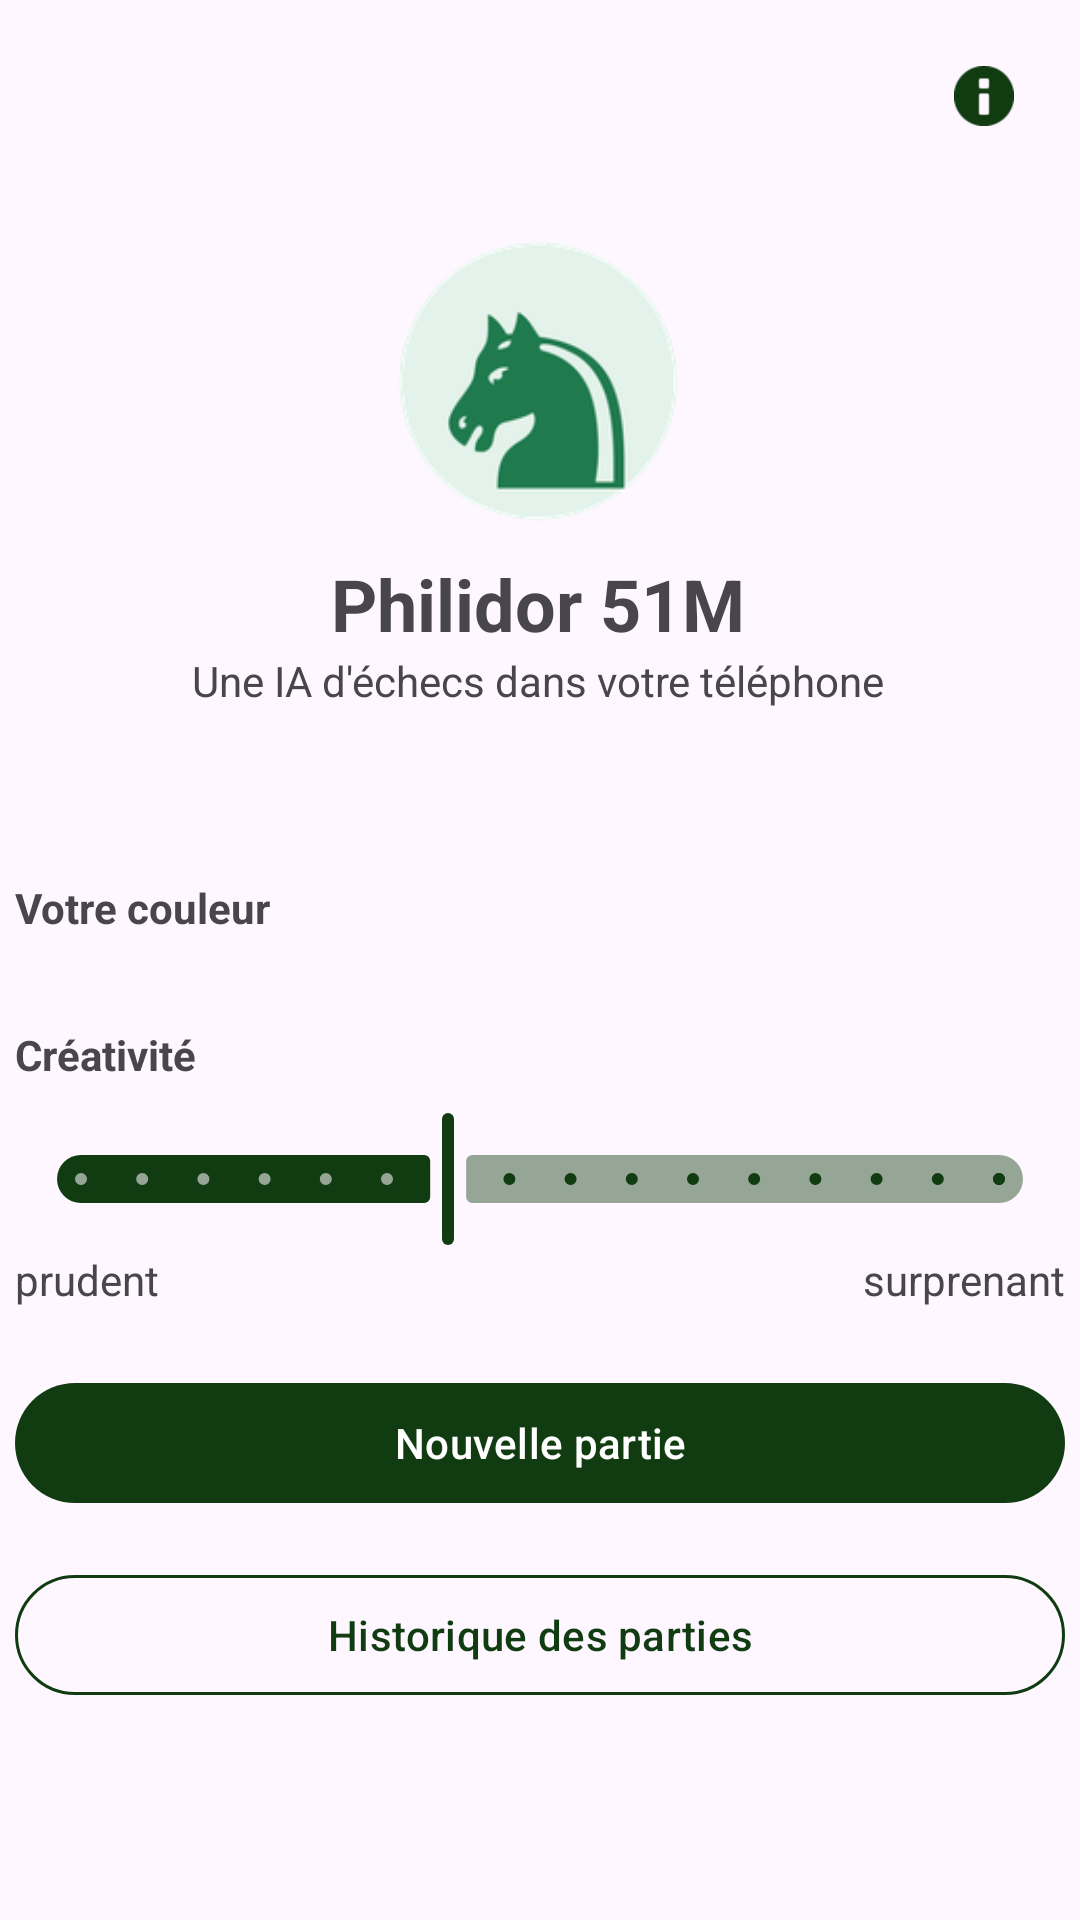

Named icons in this screenshot (1080px×1920px) and their centers, (x=x, y=y):
info: (x=984, y=96)
